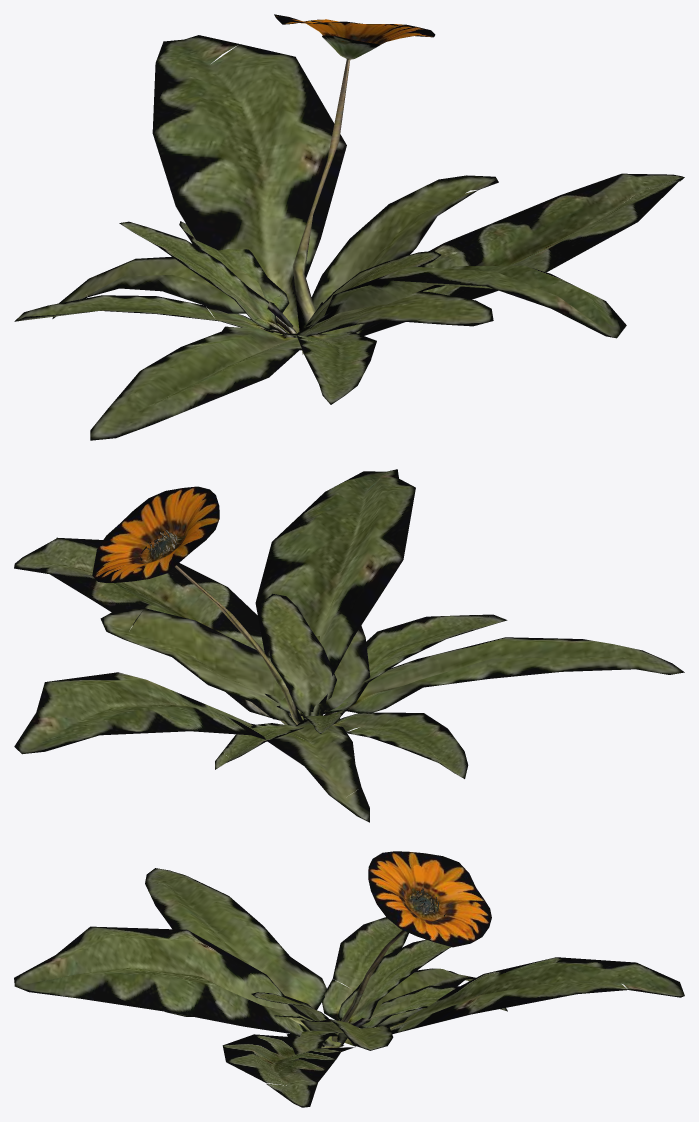
The model's file is ph-blume-gazania-d.glb.
3 renders of one model, top to bottom at view 1: azimuth 30°, elevation 25°; view 2: azimuth 150°, elevation 25°; view 3: azimuth 270°, elevation 25°, orthographic. The views are drawn at different scales.
Visible parts, largest first — view 1: flower_gazania_d_LOD0; view 2: flower_gazania_d_LOD0; view 3: flower_gazania_d_LOD0.
Boxes of the visible parts, x1,y1,x2,y2 form: flower_gazania_d_LOD0: [14, 14, 684, 440]; flower_gazania_d_LOD0: [14, 469, 684, 822]; flower_gazania_d_LOD0: [14, 851, 684, 1107].
Size of the model in its own units: 0.2457 by 0.0998 by 0.2663.
Materials: 1 (1 with a texture image).
